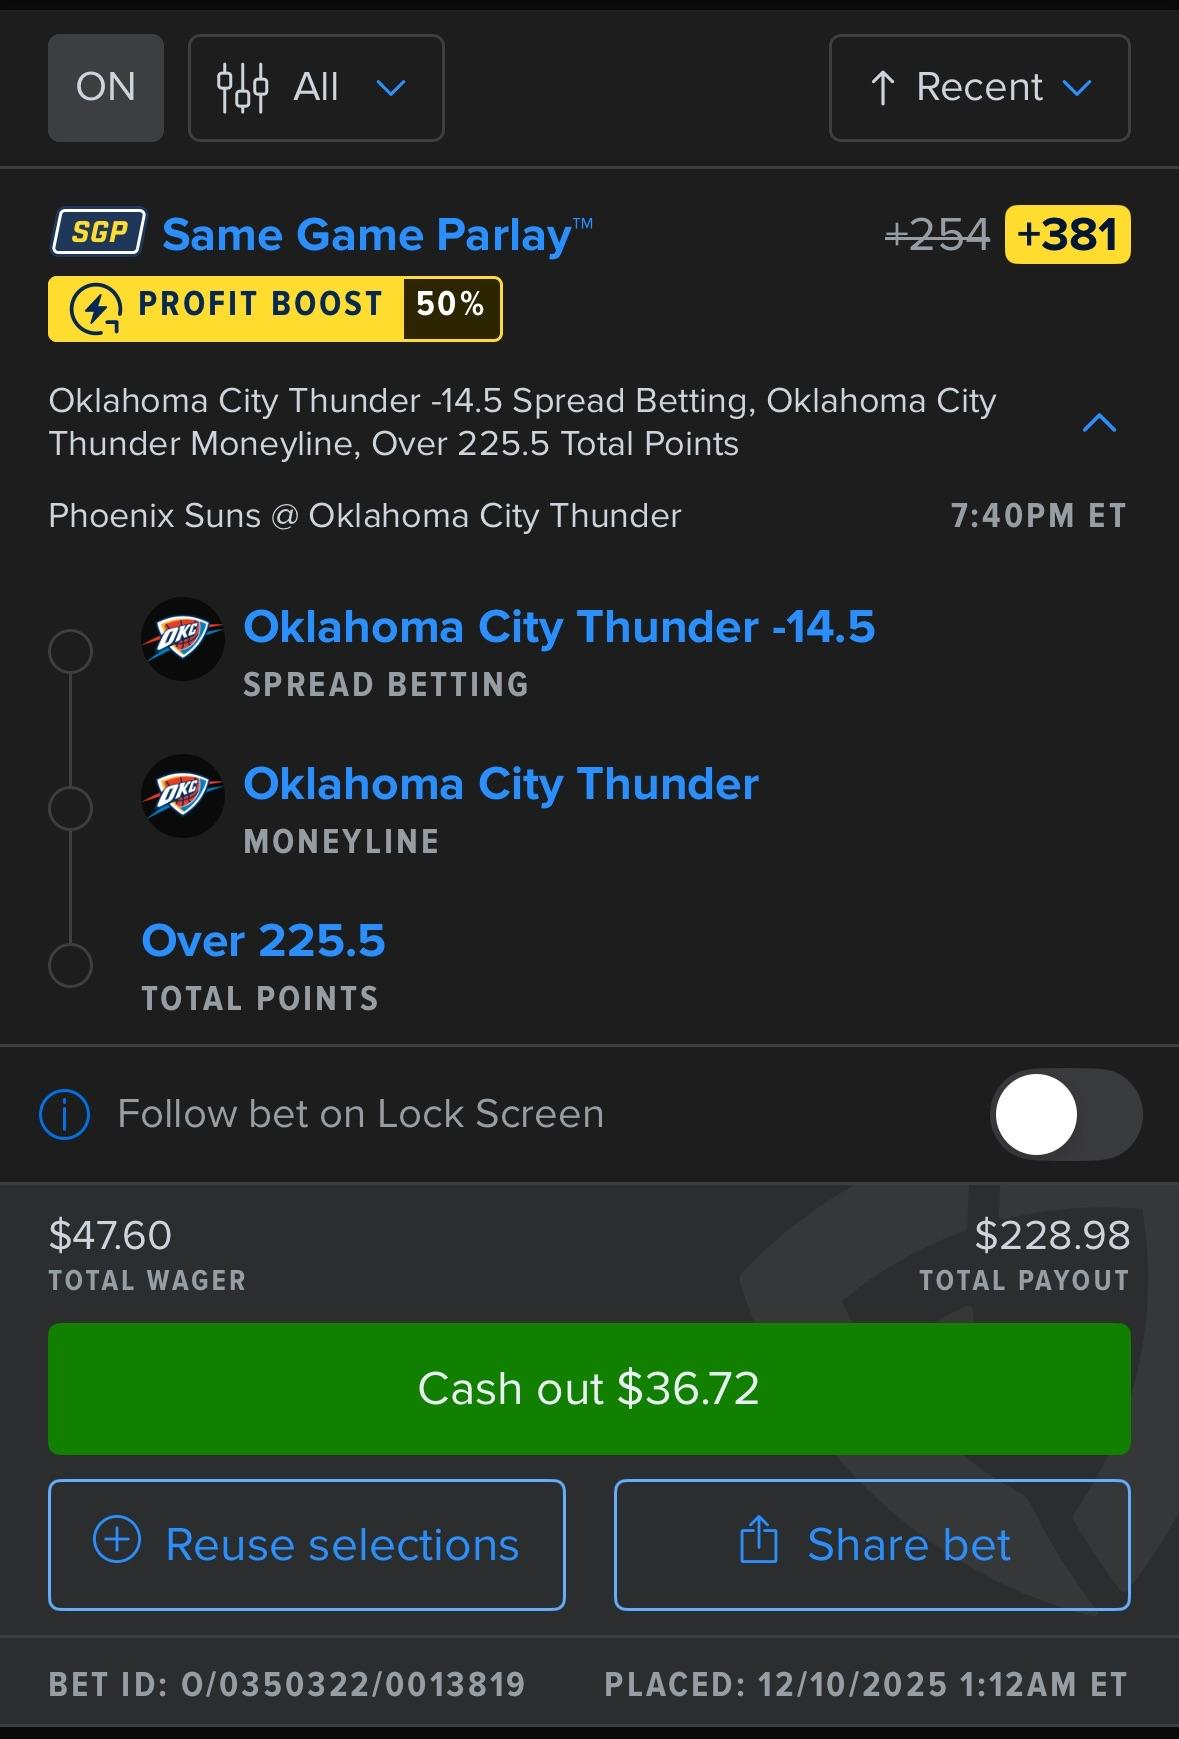game: (34, 484, 692, 549)
odds: (1016, 208, 1120, 260)
payout: (966, 1208, 1136, 1261)
wager: (36, 1198, 184, 1260)
